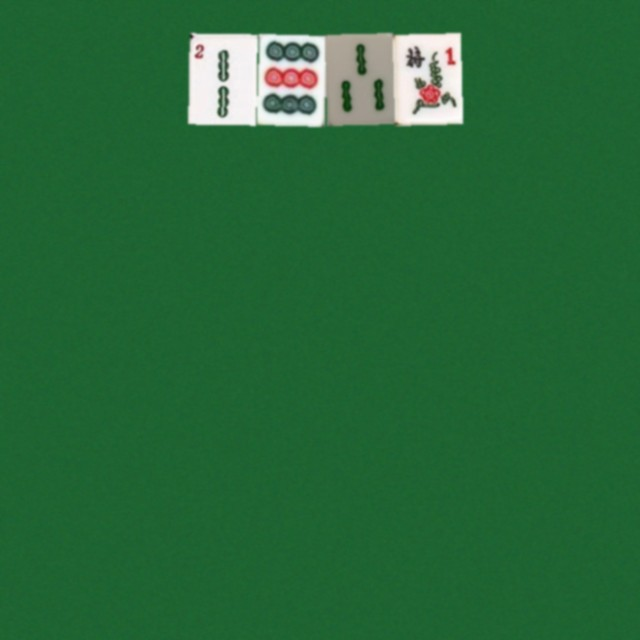tile: (188, 33, 256, 124), (256, 33, 324, 124), (324, 33, 392, 124), (392, 33, 460, 124)
